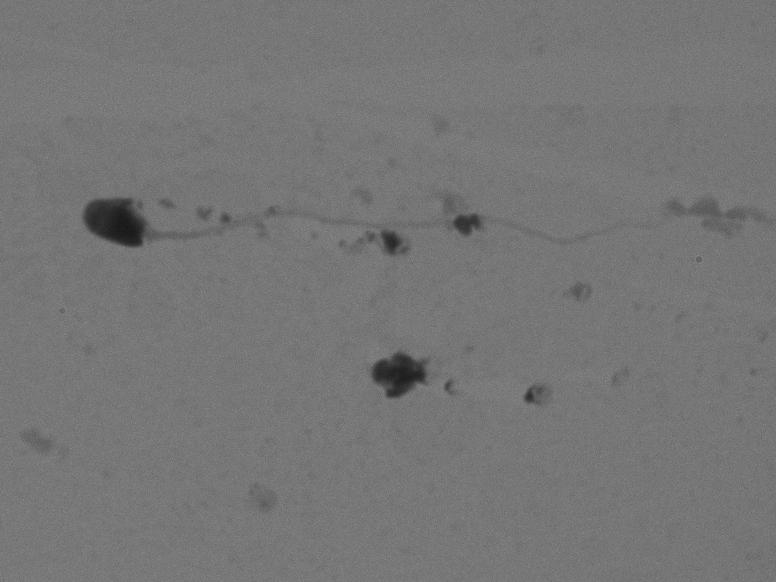Abnormal: (60, 133, 700, 303)
